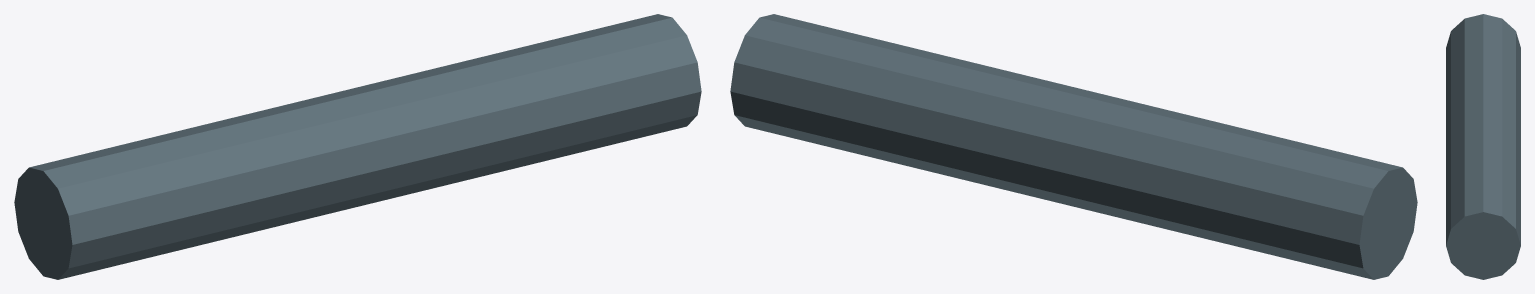
File: SM_Factory_Large_pipe_5m.glb
3 renders of one model, left to right at view 1: azimuth 30°, elevation 25°; view 2: azimuth 150°, elevation 25°; view 3: azimuth 270°, elevation 25°, orthographic. The views are drawn at different scales.
Visible parts, largest first — view 1: SM_Factory_Large_pipe_5m; view 2: SM_Factory_Large_pipe_5m; view 3: SM_Factory_Large_pipe_5m.
Part boxes in pixels (x1,y1,x2,y2): SM_Factory_Large_pipe_5m: (14, 14, 701, 279); SM_Factory_Large_pipe_5m: (730, 14, 1417, 279); SM_Factory_Large_pipe_5m: (1446, 14, 1520, 279).
Size of the model in its own units: 5 by 0.8 by 0.8.
1 material, 1 textured.
